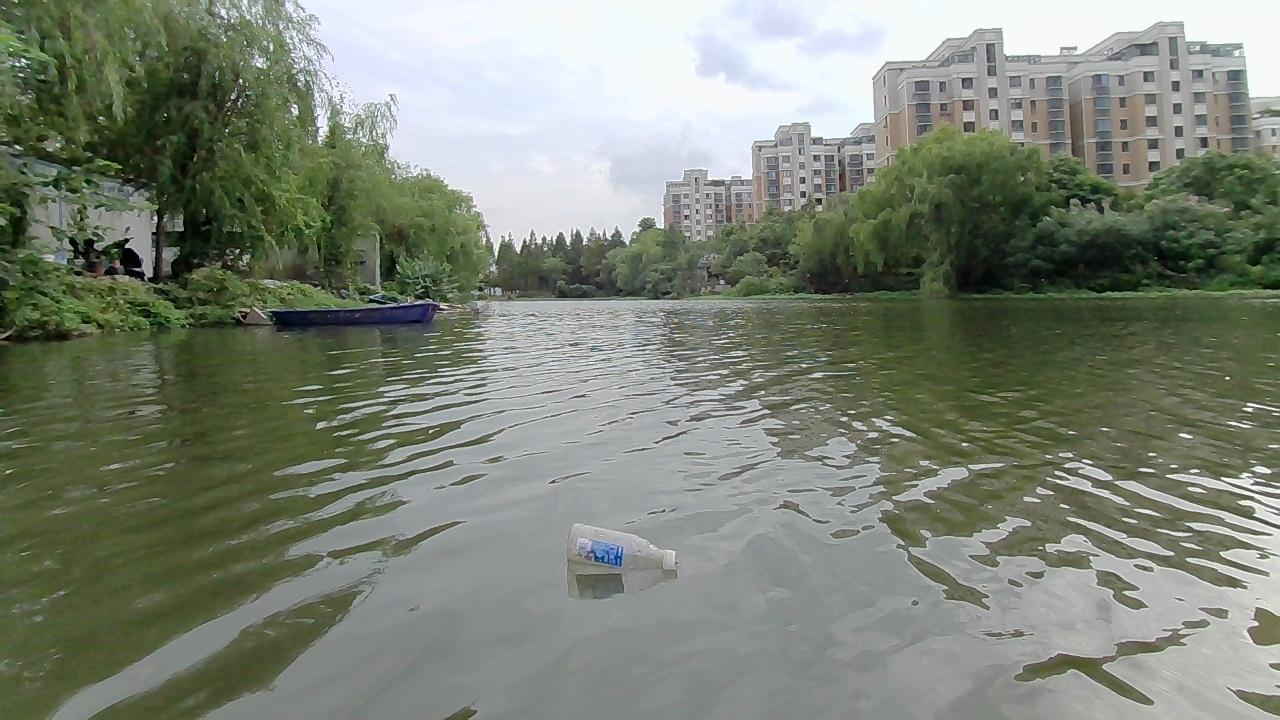bottle: (568, 519, 678, 580)
